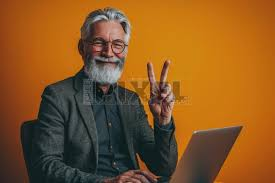peace_sign: (143, 54, 177, 120)
